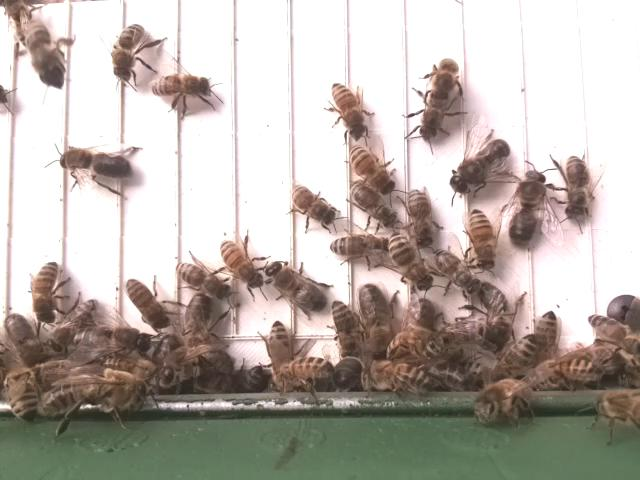Drone: (445, 138, 512, 195), (506, 167, 551, 249), (263, 260, 329, 315), (55, 143, 137, 187), (357, 279, 391, 361)
Worker: (385, 230, 432, 295), (121, 275, 171, 334), (172, 257, 231, 303), (346, 142, 398, 192), (219, 238, 267, 292), (348, 181, 402, 228), (328, 79, 370, 139), (561, 151, 593, 227), (466, 205, 501, 274), (107, 24, 146, 85), (423, 56, 462, 113), (29, 259, 61, 327), (329, 297, 360, 363), (145, 73, 214, 102), (326, 230, 388, 261), (408, 187, 436, 250), (267, 319, 293, 379)
